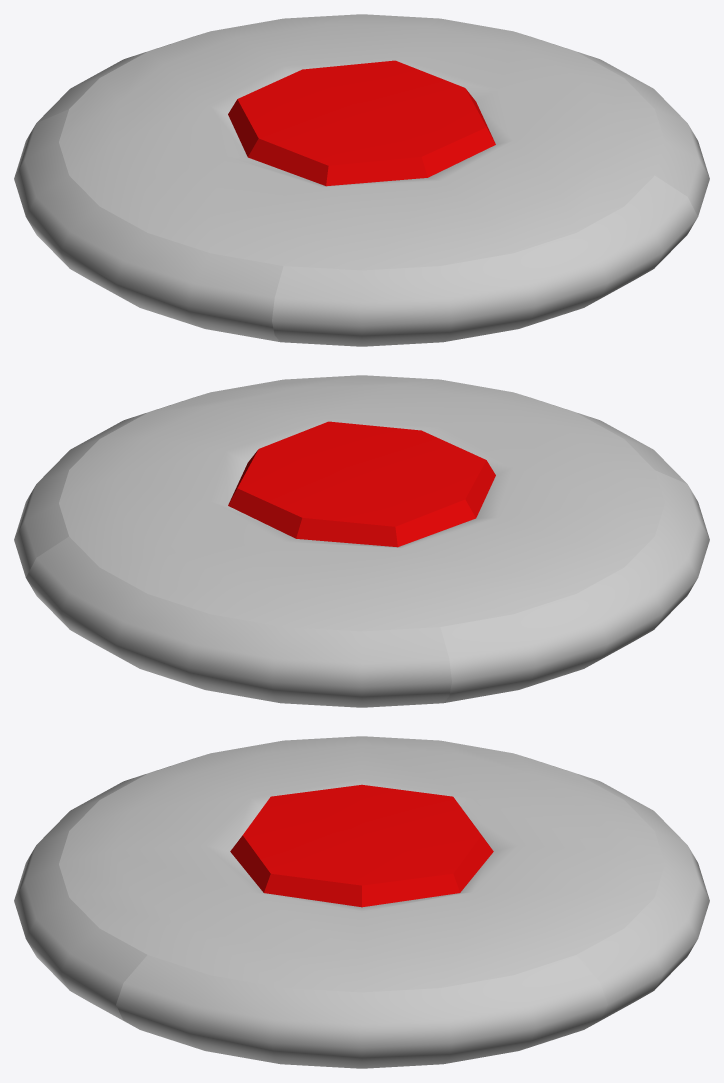
The model's file is Mina.fbx.
3 views of the same model, one above another, from view 1: azimuth 30°, elevation 25°; view 2: azimuth 150°, elevation 25°; view 3: azimuth 270°, elevation 25° (orthographic).
Parts seen in each view (by area): view 1: Mina; view 2: Mina; view 3: Mina.
Part boxes in pixels (<box>): Mina: <box>14,14,709,346</box>; Mina: <box>14,375,709,707</box>; Mina: <box>14,736,709,1068</box>.
Bounding box in the file's own units: 38.37 × 6.33 × 38.37.
